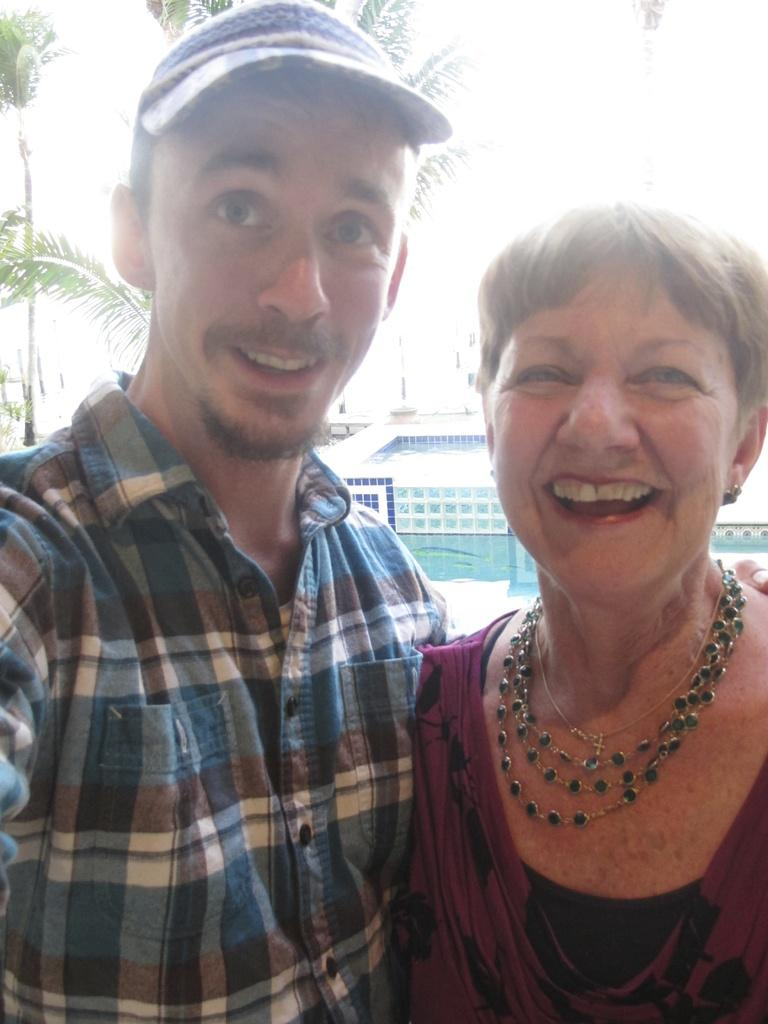Hat: (127, 0, 451, 185)
